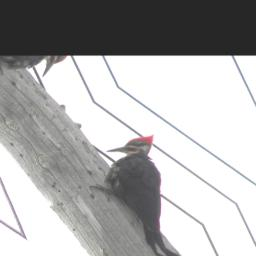Woodpecker: (73, 123, 223, 256)
